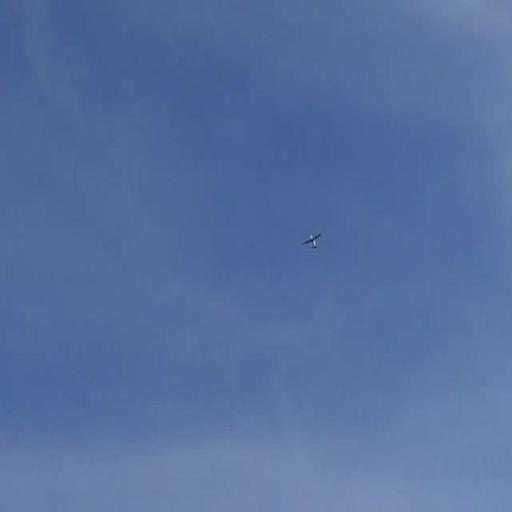uav: (302, 230, 326, 258)
